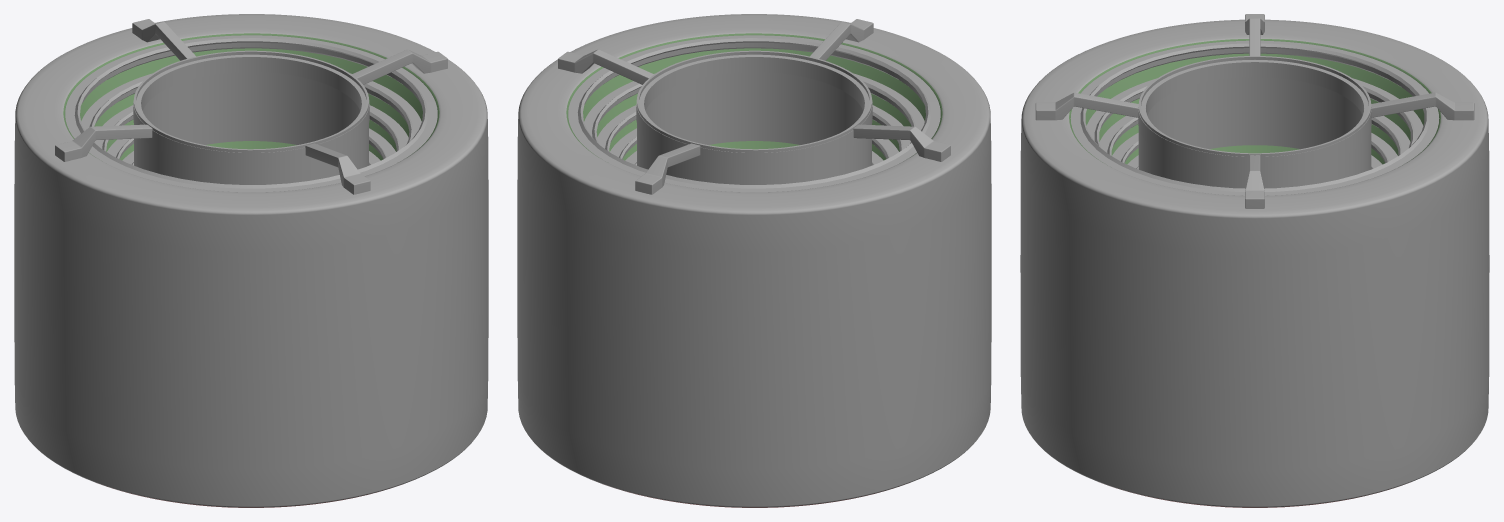
File: LOCATION.fbx
3 views of the same model, side by side, from view 1: azimuth 30°, elevation 25°; view 2: azimuth 150°, elevation 25°; view 3: azimuth 270°, elevation 25° (orthographic).
Parts seen in each view (by area): view 1: ARENA4, SHEET, TRIBUNI, METAL_DERGATEL, DERGATEL; view 2: ARENA4, SHEET, TRIBUNI, METAL_DERGATEL, DERGATEL; view 3: ARENA4, SHEET, TRIBUNI, METAL_DERGATEL, DERGATEL.
Boxes of the visible parts, <box> form: ARENA4: <box>14,14,488,507</box>; SHEET: <box>134,50,368,184</box>; TRIBUNI: <box>65,35,437,192</box>; METAL_DERGATEL: <box>133,54,369,168</box>; DERGATEL: <box>55,19,447,194</box>; ARENA4: <box>517,14,991,507</box>; SHEET: <box>637,50,871,184</box>; TRIBUNI: <box>568,35,940,192</box>; METAL_DERGATEL: <box>636,54,872,168</box>; DERGATEL: <box>558,19,950,194</box>; ARENA4: <box>1020,19,1489,507</box>; SHEET: <box>1138,56,1371,188</box>; TRIBUNI: <box>1070,40,1439,195</box>; METAL_DERGATEL: <box>1138,60,1371,172</box>; DERGATEL: <box>1035,14,1474,208</box>.
Bounding box in the file's own units: 271 × 202 × 271.
